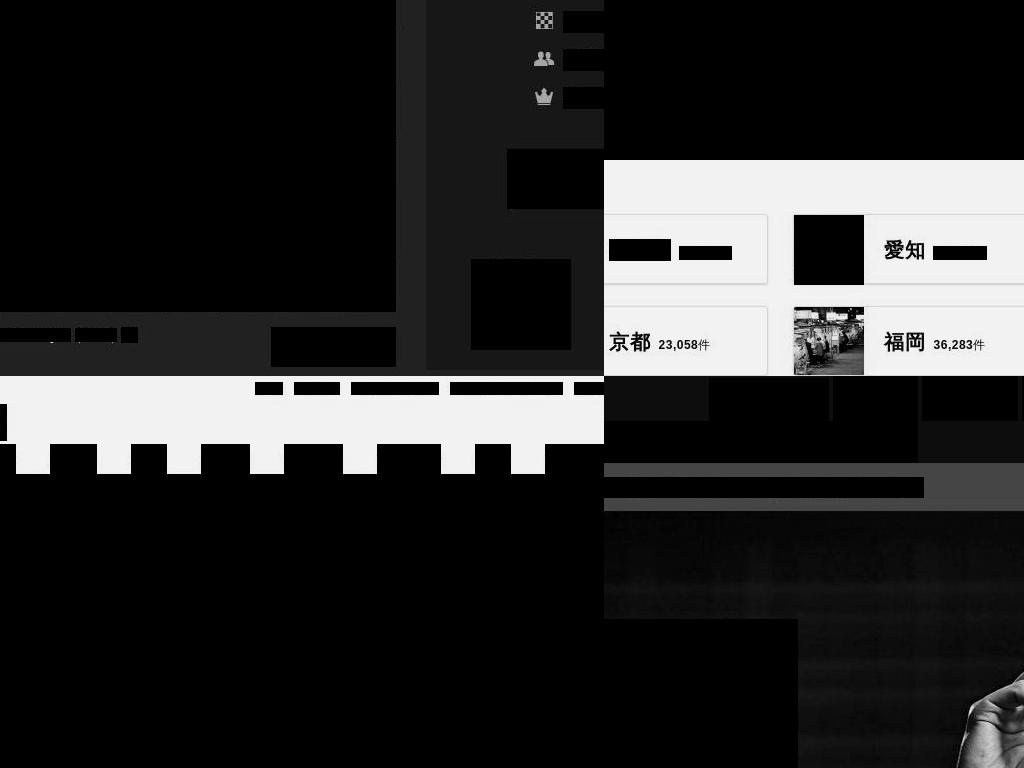button: (471, 259, 571, 350), (604, 477, 924, 498), (507, 149, 604, 209), (709, 378, 829, 424), (922, 376, 1018, 421), (833, 376, 918, 422), (203, 742, 333, 768), (668, 421, 745, 463), (745, 421, 820, 463), (604, 421, 668, 463), (859, 421, 918, 463), (377, 444, 441, 474), (284, 444, 343, 474), (545, 444, 604, 474), (820, 421, 859, 463), (201, 444, 250, 474), (50, 444, 97, 474), (131, 444, 167, 474), (475, 444, 511, 474), (0, 444, 16, 474)
field: (691, 43, 970, 93), (604, 43, 692, 93), (969, 43, 1024, 93)
heading: (604, 619, 798, 768), (0, 654, 318, 733)
image: (0, 474, 604, 768), (0, 0, 396, 312), (604, 0, 1024, 160), (794, 215, 864, 285), (794, 307, 864, 376), (491, 259, 551, 319), (799, 390, 817, 408), (888, 390, 906, 408), (121, 327, 138, 343), (312, 755, 318, 766)
link: (450, 382, 563, 395), (351, 382, 439, 395), (294, 382, 340, 395), (574, 382, 604, 395), (255, 382, 283, 395)
text: (271, 327, 396, 367), (218, 753, 312, 768), (609, 239, 671, 261), (479, 334, 562, 350), (153, 742, 203, 768), (721, 391, 793, 406), (0, 328, 71, 342), (884, 239, 926, 261), (609, 331, 651, 353), (884, 331, 926, 353), (563, 11, 604, 33), (563, 49, 604, 71), (75, 328, 117, 342), (679, 246, 720, 260), (933, 246, 973, 260), (658, 338, 698, 352), (933, 338, 973, 352), (845, 391, 882, 406), (826, 432, 853, 451), (973, 246, 987, 260), (698, 338, 712, 352), (973, 338, 987, 352), (719, 246, 732, 260)
